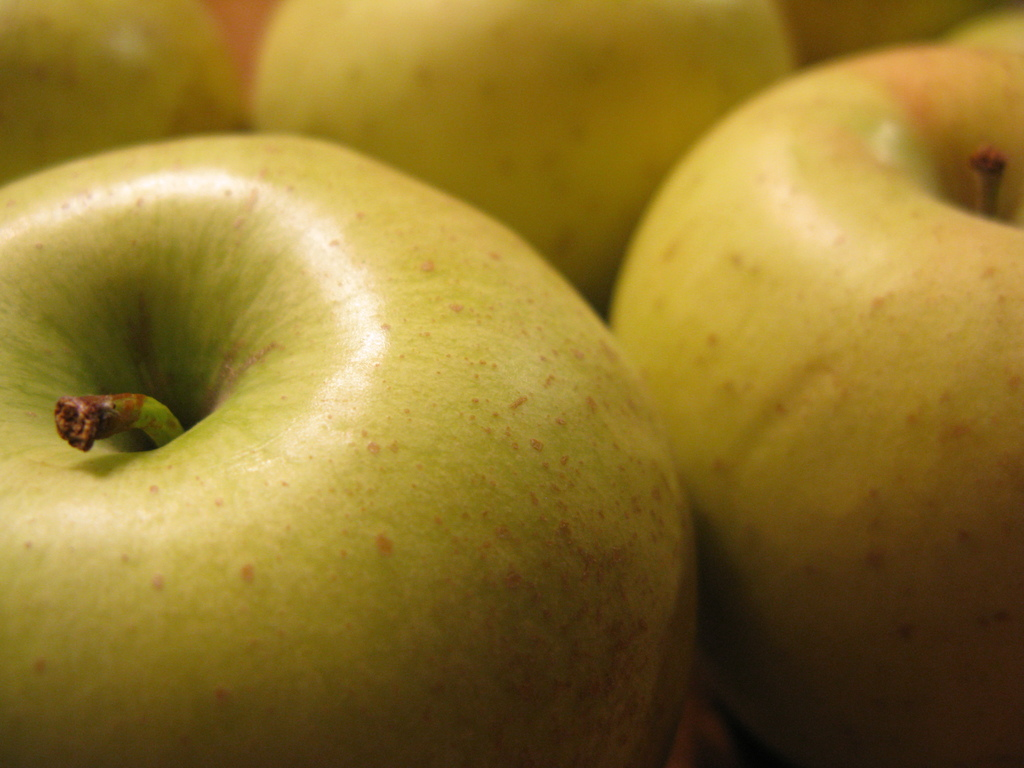Apple: (0, 129, 684, 768), (602, 38, 1023, 767), (245, 0, 803, 321), (0, 0, 240, 183)
